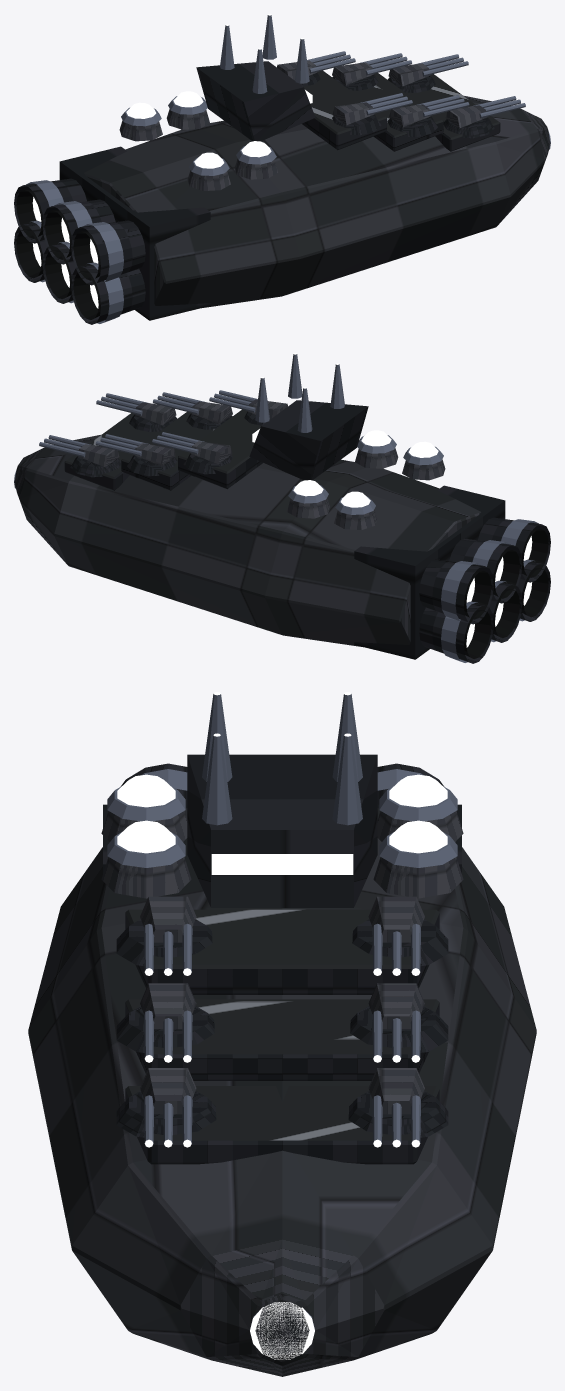
File: dreadnought.glb
The picture shows the model from 3 angles, top to bottom: view 1: azimuth 30°, elevation 25°; view 2: azimuth 150°, elevation 25°; view 3: azimuth 270°, elevation 25°; orthographic projection. The views are drawn at different scales.
Visible parts, largest first — view 1: hull_body, engine_block, weapon_turrets, sensor_tower, shield_domes; view 2: hull_body, engine_block, weapon_turrets, sensor_tower, shield_domes; view 3: hull_body, weapon_turrets, sensor_tower, shield_domes, engine_block.
Part boxes in pixels (<box>): hull_body: <box>84,70,550,308</box>; engine_block: <box>14,146,210,324</box>; weapon_turrets: <box>277,51,550,150</box>; sensor_tower: <box>196,14,315,141</box>; shield_domes: <box>119,91,277,190</box>; hull_body: <box>14,409,480,647</box>; engine_block: <box>354,485,550,663</box>; weapon_turrets: <box>14,390,287,489</box>; sensor_tower: <box>249,353,368,480</box>; shield_domes: <box>287,430,445,529</box>; hull_body: <box>28,808,536,1376</box>; weapon_turrets: <box>116,896,448,1359</box>; sensor_tower: <box>187,692,377,907</box>; shield_domes: <box>101,774,463,898</box>; engine_block: <box>103,763,461,873</box>.
Size of the model in its own units: 80 by 38.06 by 36.26.
Materials: 1 (1 with a texture image).
